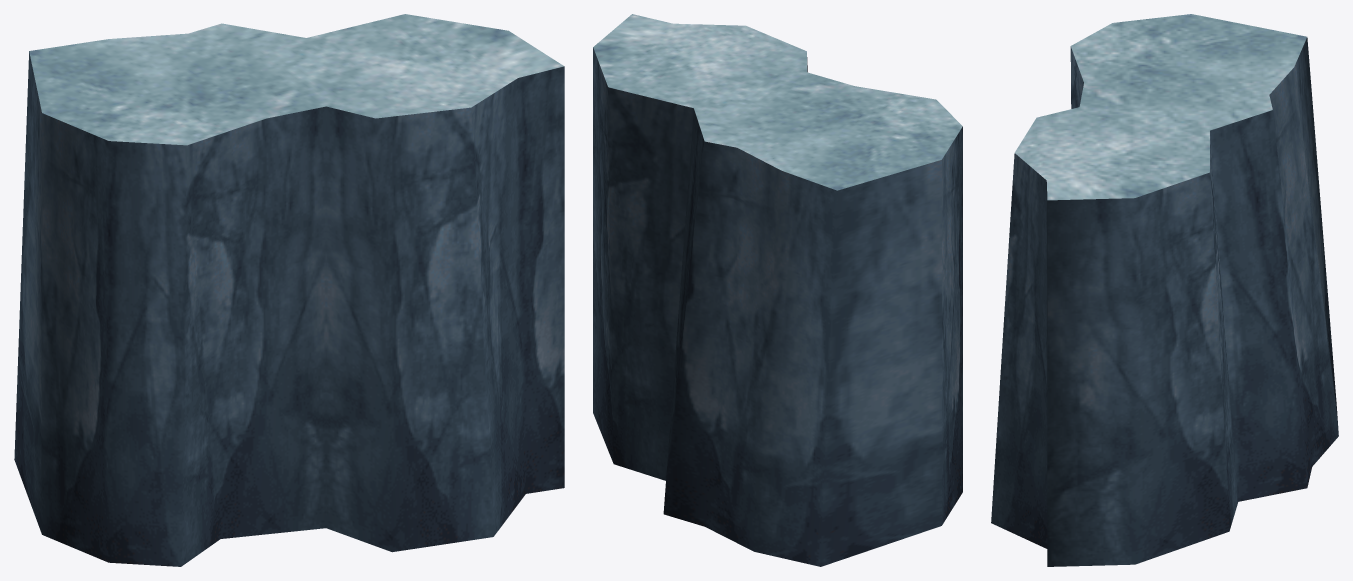
3 views of the same model, side by side, from view 1: azimuth 30°, elevation 25°; view 2: azimuth 150°, elevation 25°; view 3: azimuth 270°, elevation 25° (orthographic). The views are drawn at different scales.
Visible parts, largest first — view 1: wj07; view 2: wj07; view 3: wj07.
Part boxes in pixels (x1,y1,x2,y2): wj07: (14,14,564,566); wj07: (593,14,962,566); wj07: (991,14,1338,566).
Size of the model in its own units: 1197 by 1097 by 943.
1 material, 1 textured.
